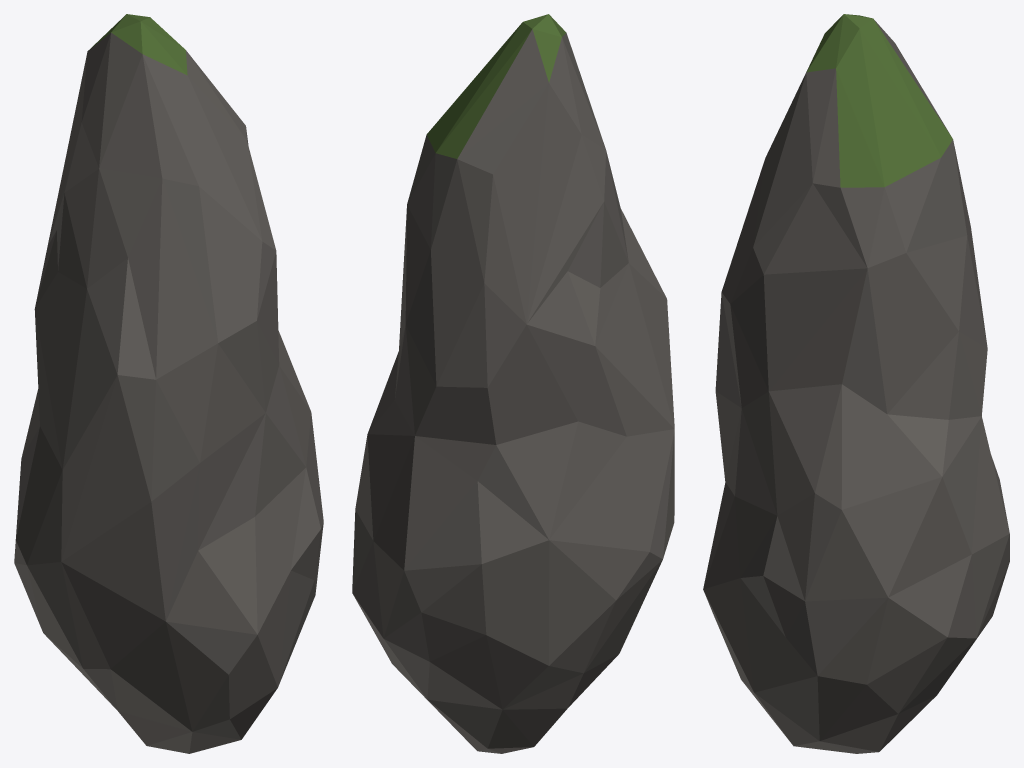
The model's file is sea_stack.glb.
3 renders of one model, left to right at view 1: azimuth 30°, elevation 25°; view 2: azimuth 150°, elevation 25°; view 3: azimuth 270°, elevation 25°, orthographic. The views are drawn at different scales.
Visible parts, largest first — view 1: SeaStack; view 2: SeaStack; view 3: SeaStack.
Part boxes in pixels (<box>): SeaStack: <box>14,14,323,753</box>; SeaStack: <box>352,14,674,753</box>; SeaStack: <box>703,14,1009,753</box>.
Size of the model in its own units: 7.69 by 19.24 by 7.42.
